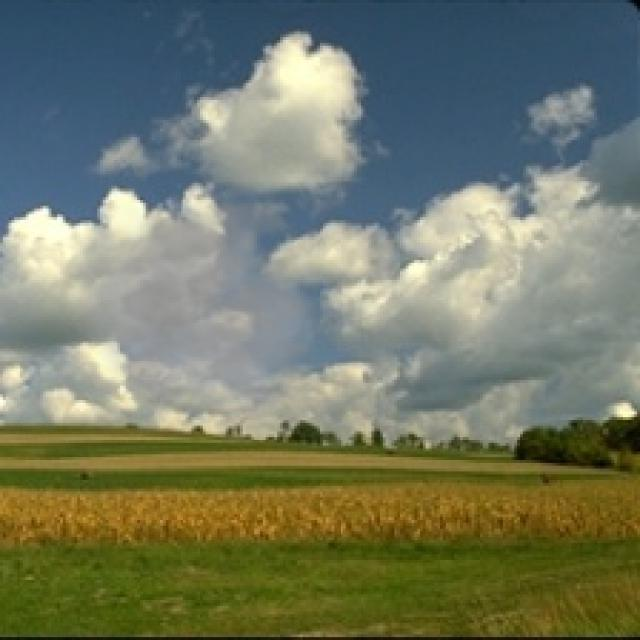Smoke: (57, 180, 329, 417)
